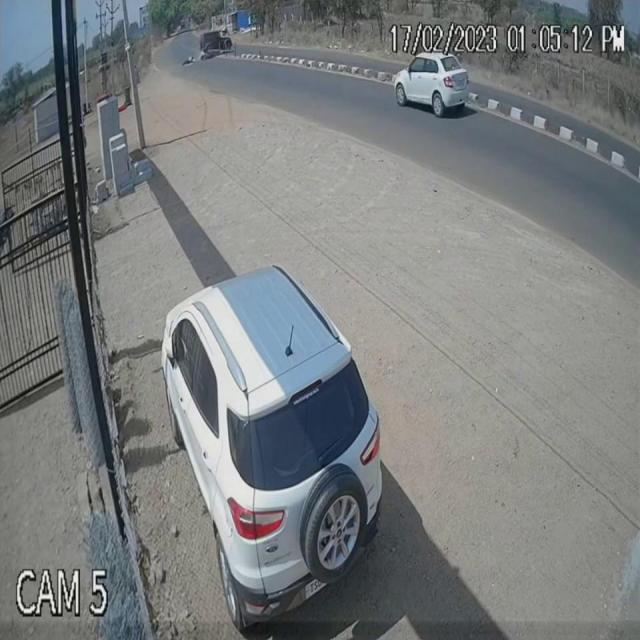accident: (178, 28, 236, 74)
